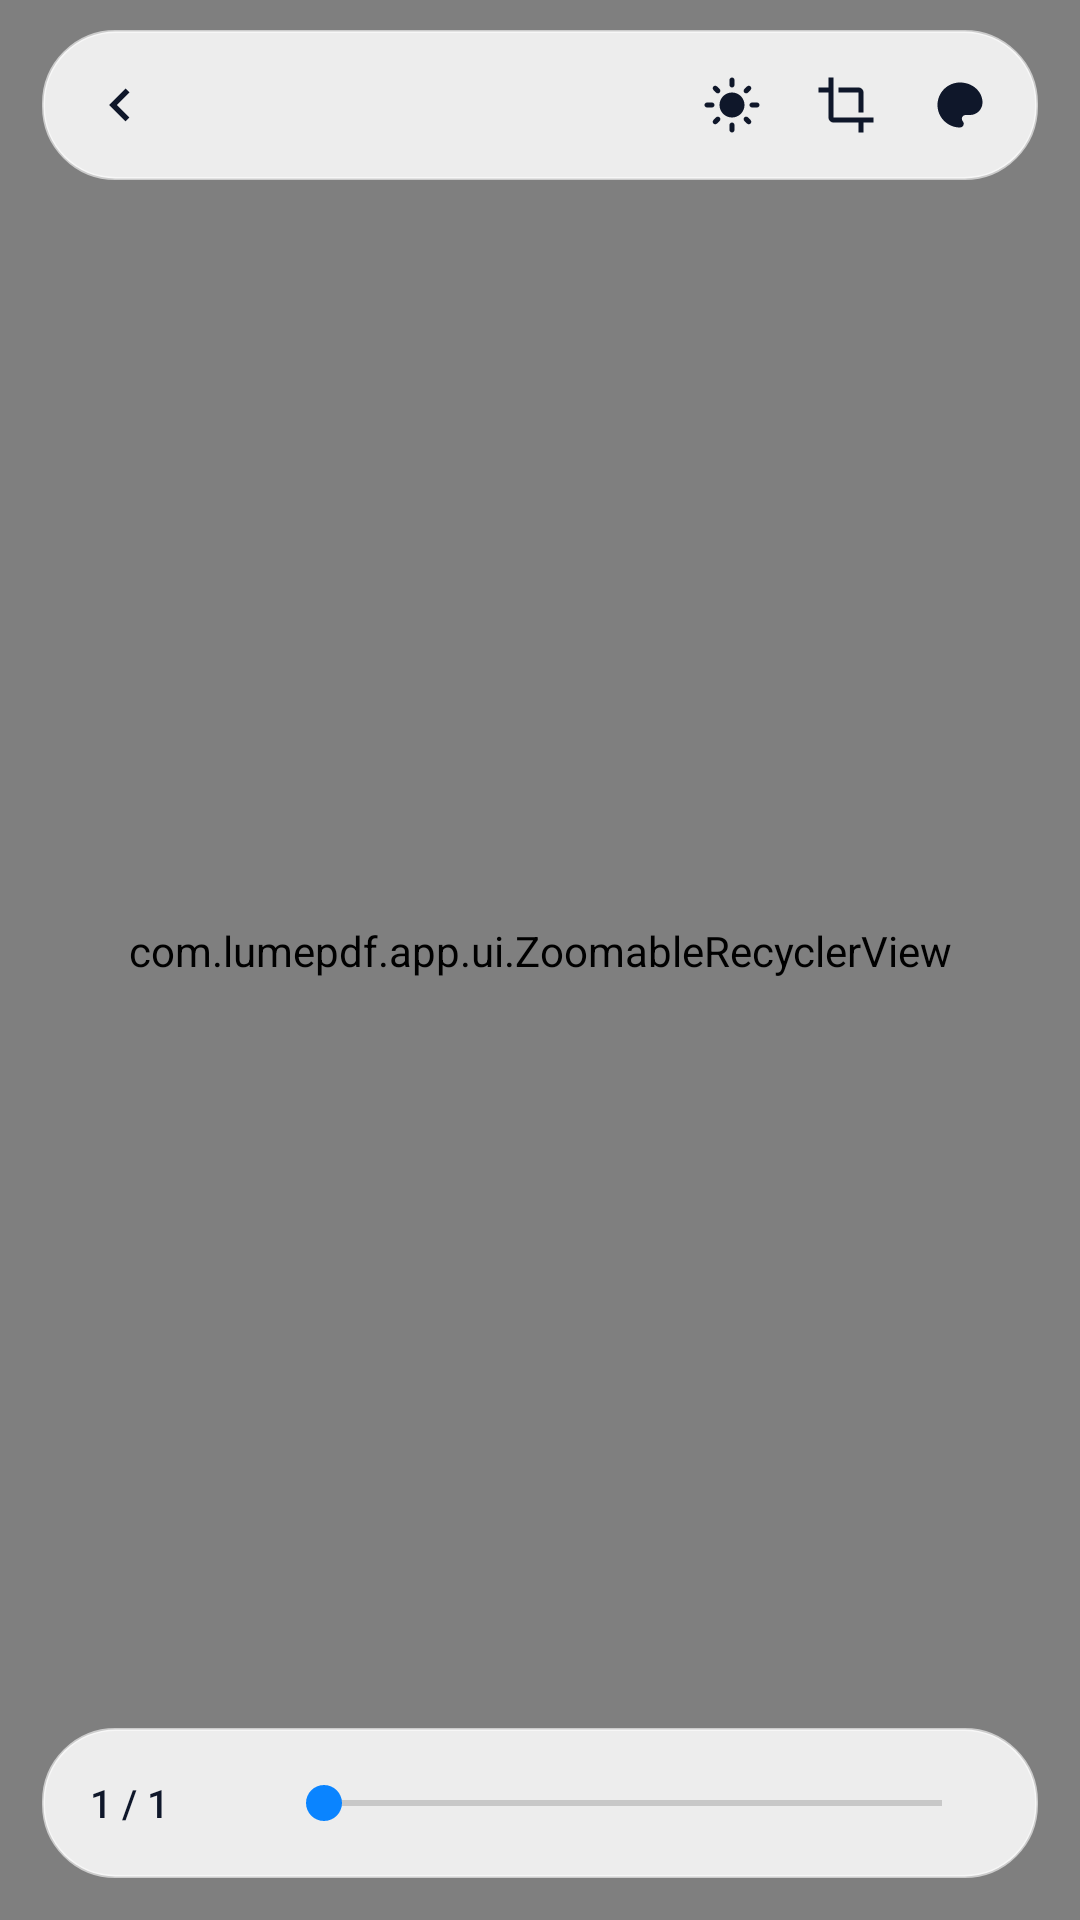

Icon click points for this 1080px×1920px phone screenshot, format point (x, y):
Back: point (119, 105)
Crop white margins: point (846, 105)
